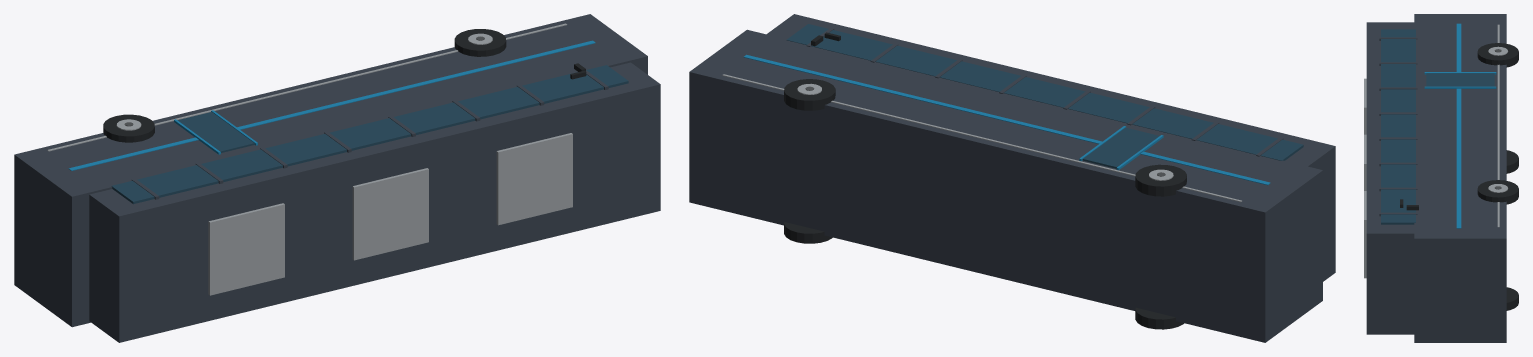
File: RM_Bus_24.glb
3 renders of one model, left to right at view 1: azimuth 30°, elevation 25°; view 2: azimuth 150°, elevation 25°; view 3: azimuth 270°, elevation 25°, orthographic. The views are drawn at different scales.
Visible parts, largest first — view 1: part_001, part_000, part_002, part_037, part_038, part_039, part_013, part_040, part_014, part_024, part_030; view 2: part_000, part_002, part_001, part_013, part_040, part_024, part_030, part_014, part_021, part_027; view 3: part_000, part_001, part_002, part_013, part_040, part_024, part_030, part_014, part_039, part_021, part_027, part_042 (+5 smaller).
Boxes of the visible parts, x1,y1,x2,y2 form: part_001: (89,62,660,342); part_000: (14,14,647,327); part_002: (111,65,628,204); part_037: (208,203,284,295); part_038: (352,168,428,260); part_039: (496,133,572,225); part_013: (68,40,595,170); part_040: (178,112,254,152); part_014: (47,23,567,151); part_024: (103,114,154,142); part_030: (454,29,506,56); part_000: (689,29,1322,342); part_002: (786,24,1303,160); part_001: (766,14,1335,281); part_013: (743,54,1270,185); part_040: (1082,127,1159,168); part_024: (1135,164,1186,196); part_030: (784,79,835,110); part_014: (722,74,1241,202); part_021: (1135,307,1183,329); part_027: (784,222,832,243); part_000: (1414,14,1506,342); part_001: (1366,22,1414,334); part_002: (1381,29,1415,224); part_013: (1456,23,1461,228); part_040: (1426,73,1494,86); part_024: (1477,43,1518,67); part_030: (1477,180,1518,204); part_014: (1497,24,1499,227); part_039: (1364,191,1366,278); part_021: (1506,150,1518,173); part_027: (1506,287,1518,310); part_042: (1424,86,1496,88).
Size of the model in its own units: 12.06 by 2.93 by 3.51.
